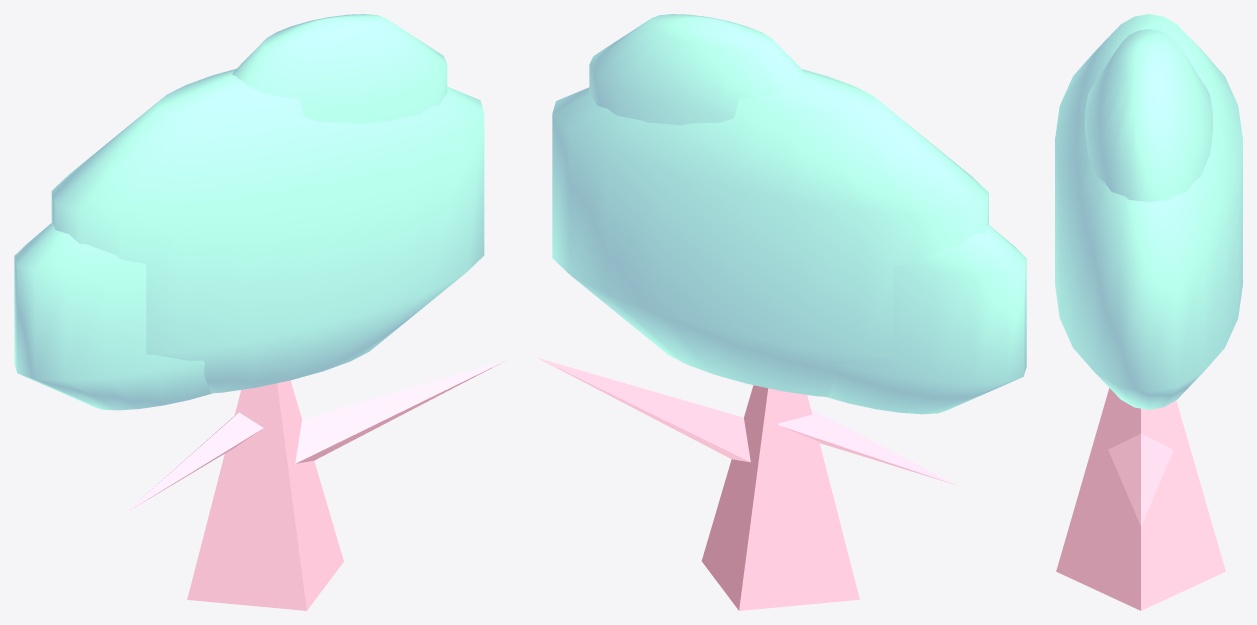
File: Tree2.fbx
3 renders of one model, left to right at view 1: azimuth 30°, elevation 25°; view 2: azimuth 150°, elevation 25°; view 3: azimuth 270°, elevation 25°, orthographic. The views are drawn at different scales.
Visible parts, largest first — view 1: pSphere1, pSphere2, pPyramid1, pSphere3, pPyramid2, pPyramid3; view 2: pSphere1, pSphere2, pPyramid1, pSphere3, pPyramid2, pPyramid3; view 3: pSphere1, pPyramid1, pSphere3, pPyramid2.
Part boxes in pixels (<box>): pSphere1: <box>51,68,484,393</box>; pSphere2: <box>14,223,212,410</box>; pPyramid1: <box>187,380,343,610</box>; pSphere3: <box>232,14,447,124</box>; pPyramid2: <box>295,360,506,463</box>; pPyramid3: <box>125,412,263,512</box>; pSphere1: <box>552,69,988,396</box>; pSphere2: <box>826,225,1026,414</box>; pPyramid1: <box>701,385,859,610</box>; pSphere3: <box>589,14,806,125</box>; pPyramid2: <box>538,358,750,462</box>; pPyramid3: <box>778,409,958,485</box>; pSphere1: <box>1055,14,1242,409</box>; pPyramid1: <box>1056,388,1225,610</box>; pSphere3: <box>1085,29,1212,201</box>; pPyramid2: <box>1108,433,1173,526</box>.
Bounding box in the file's own units: 11.35 × 12.1 × 3.69.
